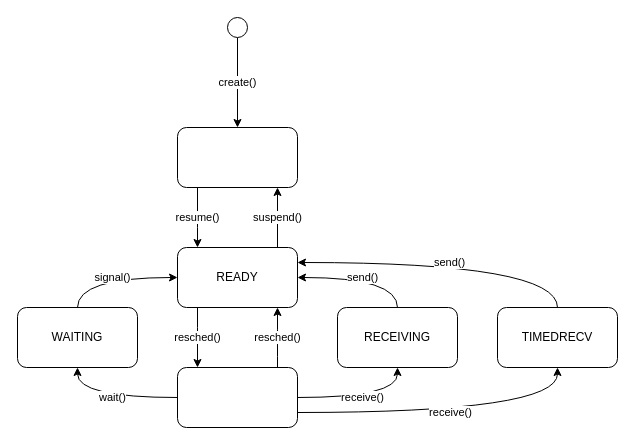
Some shapes in this 635 by 445 pixel diagram are drawn without their labels. Here are the shapes that lost their labels. From the top down, the centre of each, then its label:
At point 237,157: "SUSPENDED".
At point 237,397: "CURRENT".
